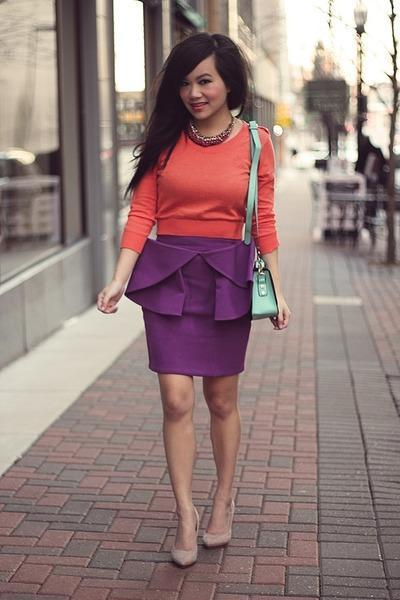shirt: (121, 121, 281, 256)
shoe: (173, 538, 197, 563)
skirt: (125, 230, 266, 390)
